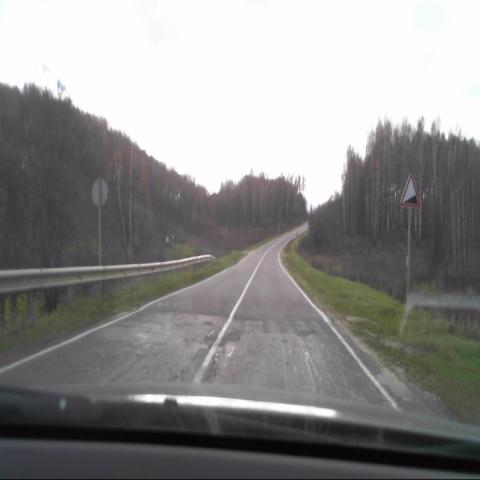1_14: (400, 173, 422, 208)
